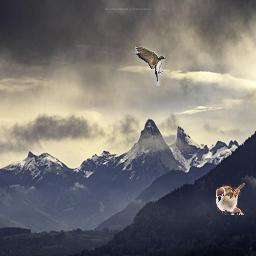Sparrow: (216, 183, 245, 215)
Swallow: (135, 46, 165, 86)
